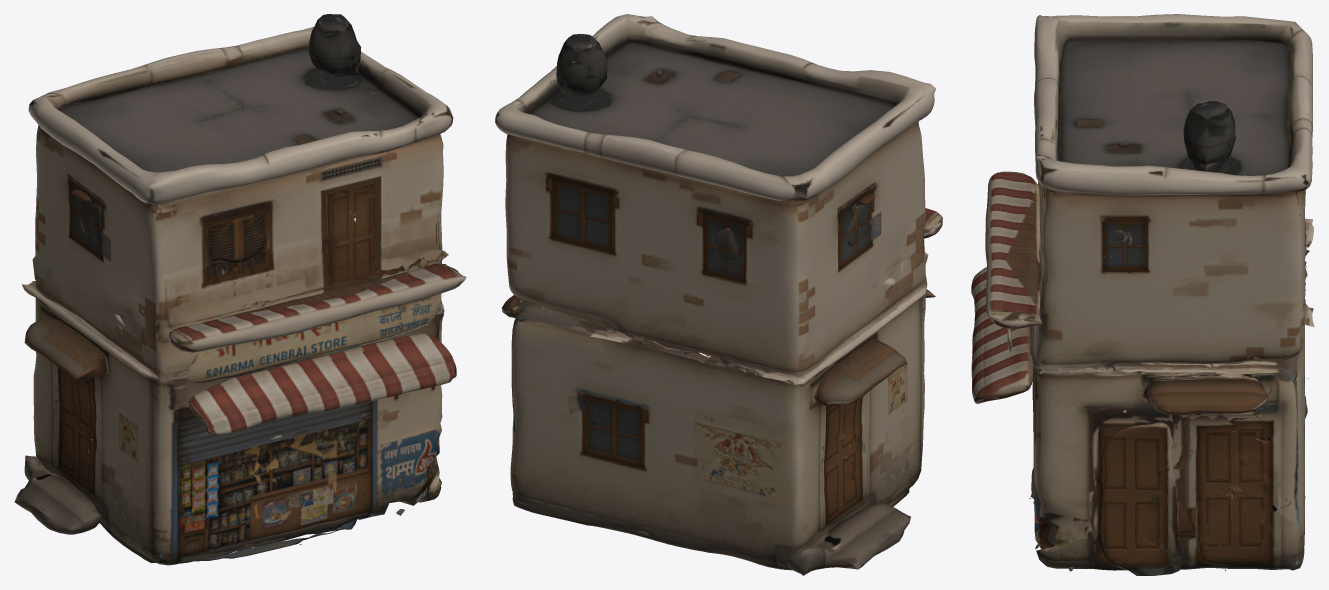
The model's file is old shop building 3d model (1).glb.
The picture shows the model from 3 angles, left to right: view 1: azimuth 30°, elevation 25°; view 2: azimuth 150°, elevation 25°; view 3: azimuth 270°, elevation 25°; orthographic projection. The views are drawn at different scales.
Parts seen in each view (by area): view 1: tripo_node_63c56bc0; view 2: tripo_node_63c56bc0; view 3: tripo_node_63c56bc0.
Part boxes in pixels (<box>): tripo_node_63c56bc0: <box>14,14,466,565</box>; tripo_node_63c56bc0: <box>495,14,942,575</box>; tripo_node_63c56bc0: <box>971,14,1314,575</box>.
Bounding box in the file's own units: 0.8384 × 0.9757 × 0.6633.
Materials: 1 (1 with a texture image).
